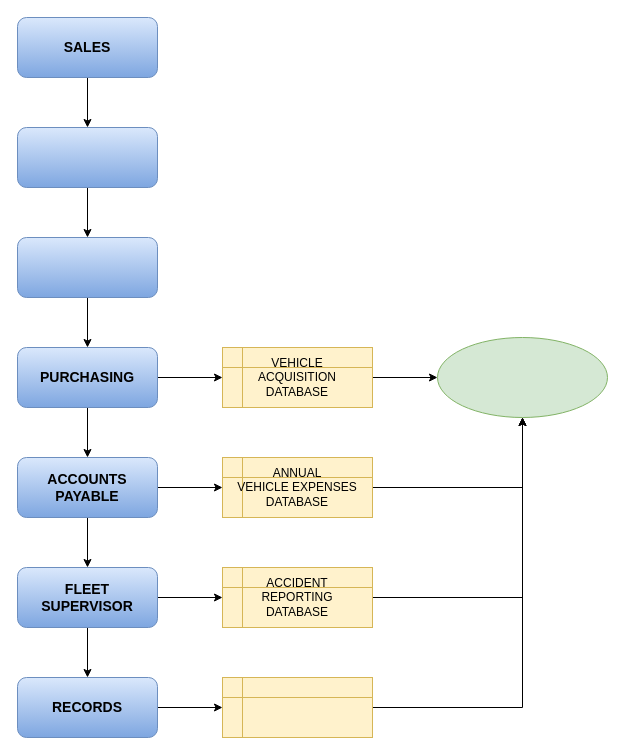
Some shapes in this 625 by 755 pixel diagram are drawn without their labels. The centre of each missing label's shape, as x and y in pixels:
"DATABASE ADMINISTRATION" belongs at [522,377].
"ORDER PROCESSING" belongs at [87,267].
"SCHEDULING" belongs at [87,157].
"VEHICLE INFORMATION DATABASE" belongs at [297,707].
